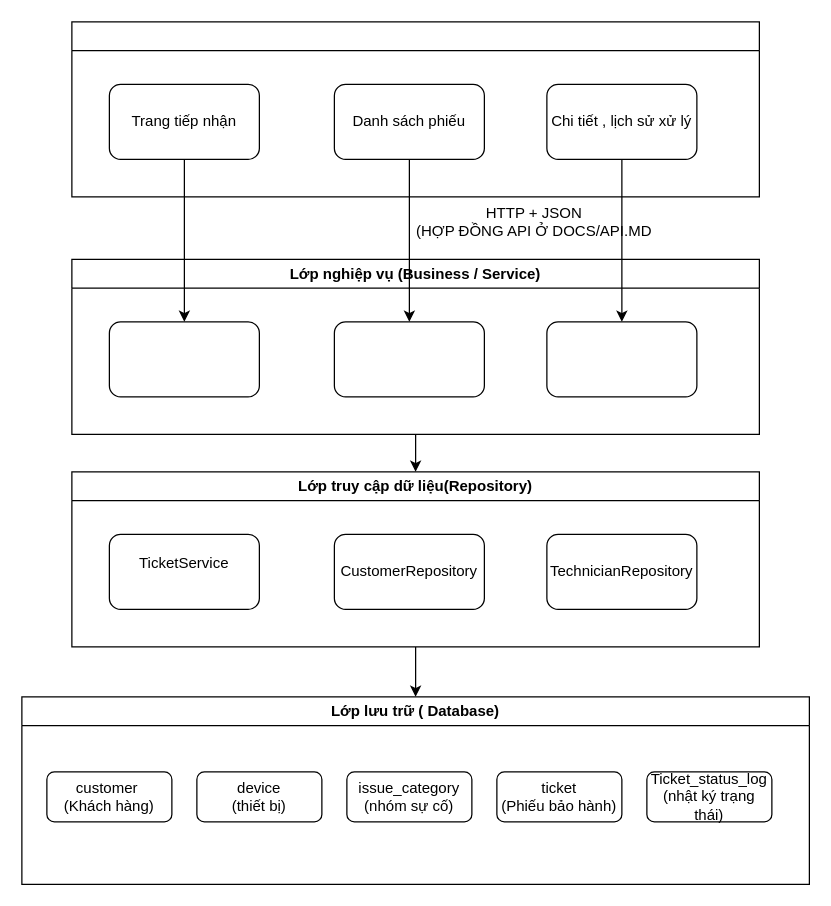
This 831x906 diagram has some shape labels left out. The centre of each missing label's shape, as x and y in pixels:
"AssignService - gán kỹ thuật viên" goes at pixel 621 359.
"ClassifyService -Đề xuất nhóm sự cố và mức ưu tiên" goes at pixel 408 359.
"Lớp trình bày (Presentation)" goes at pixel 415 109.
"TicketService - tạo phiếu , kiểm tra quy tắc bảo hành" goes at pixel 183 359.
